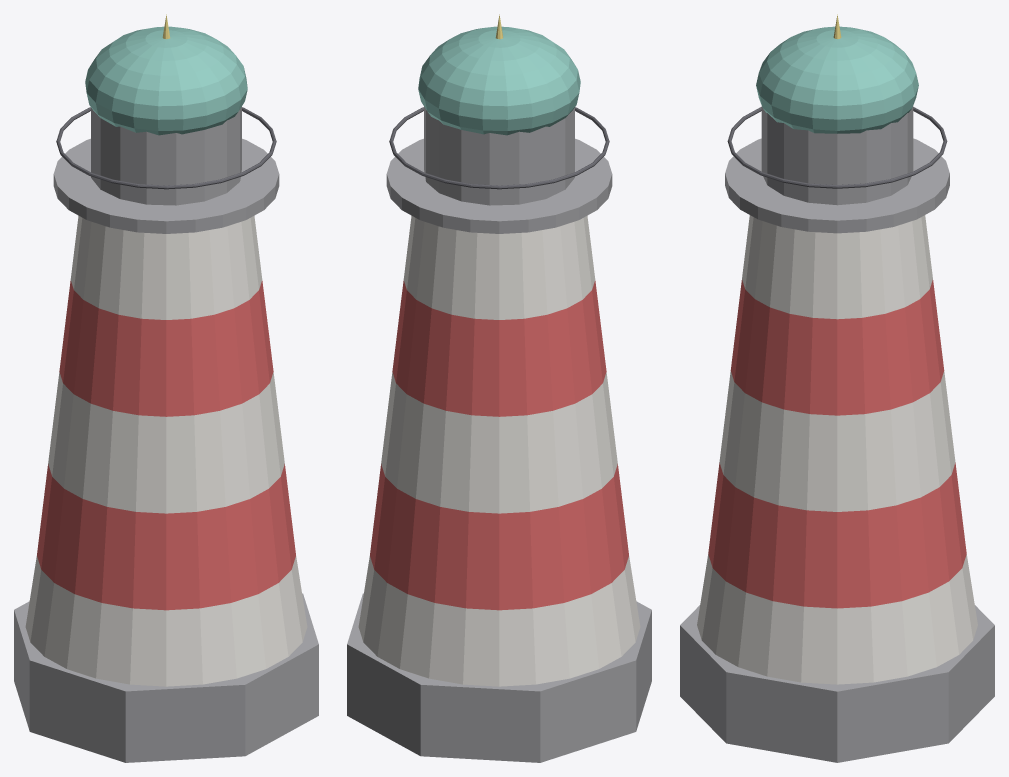
The model's file is harbor_lighthouse.glb.
3 renders of one model, left to right at view 1: azimuth 30°, elevation 25°; view 2: azimuth 150°, elevation 25°; view 3: azimuth 270°, elevation 25°, orthographic.
Visible parts, largest first — view 1: TowerBand_1.4, LighthouseBase, TowerBand_3.2, TowerBand_0.0, TowerBand_5.0, TowerBand_6.8, LanternDome, LanternRoomHousing, GalleryFloor, GalleryRailing; view 2: TowerBand_1.4, LighthouseBase, TowerBand_3.2, TowerBand_0.0, TowerBand_5.0, TowerBand_6.8, LanternDome, LanternRoomHousing, GalleryFloor, GalleryRailing; view 3: LighthouseBase, TowerBand_1.4, TowerBand_3.2, TowerBand_0.0, TowerBand_5.0, TowerBand_6.8, LanternDome, LanternRoomHousing, GalleryFloor, GalleryRailing.
Boxes of the visible parts, x1,y1,x2,y2 form: TowerBand_1.4: [37, 464, 295, 610]; LighthouseBase: [14, 593, 318, 762]; TowerBand_3.2: [48, 372, 284, 513]; TowerBand_0.0: [25, 556, 307, 686]; TowerBand_5.0: [59, 280, 273, 416]; TowerBand_6.8: [70, 215, 262, 319]; LanternDome: [85, 26, 247, 135]; LanternRoomHousing: [91, 106, 241, 205]; GalleryFloor: [53, 138, 279, 233]; GalleryRailing: [56, 107, 276, 189]; TowerBand_1.4: [370, 464, 628, 610]; LighthouseBase: [347, 593, 651, 762]; TowerBand_3.2: [381, 372, 617, 513]; TowerBand_0.0: [358, 556, 640, 686]; TowerBand_5.0: [392, 280, 606, 416]; TowerBand_6.8: [403, 215, 595, 319]; LanternDome: [418, 26, 580, 135]; LanternRoomHousing: [424, 106, 574, 205]; GalleryFloor: [386, 138, 612, 233]; GalleryRailing: [389, 107, 609, 189]; LighthouseBase: [680, 605, 994, 762]; TowerBand_1.4: [708, 462, 966, 608]; TowerBand_3.2: [719, 371, 955, 511]; TowerBand_0.0: [697, 554, 977, 684]; TowerBand_5.0: [730, 280, 944, 415]; TowerBand_6.8: [742, 215, 932, 319]; LanternDome: [756, 26, 918, 133]; LanternRoomHousing: [761, 106, 913, 205]; GalleryFloor: [725, 138, 949, 233]; GalleryRailing: [727, 107, 947, 188].
Bounding box in the file's own units: 5.6 × 13.4 × 5.6.
